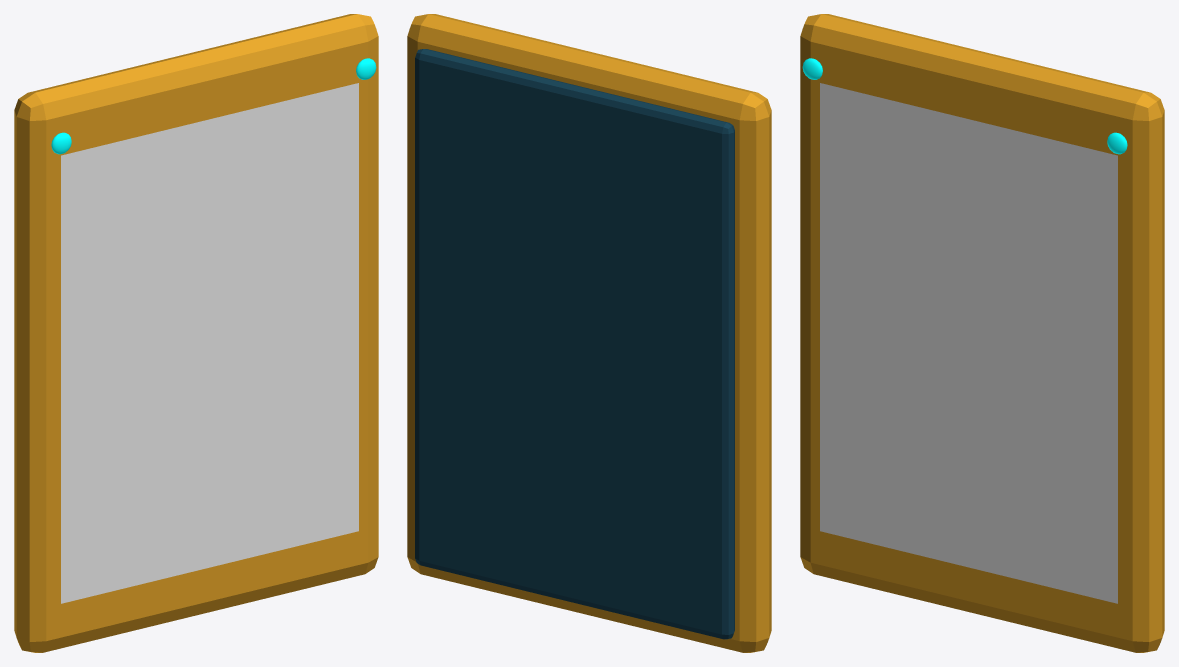
The model's file is collectible-card.glb.
The picture shows the model from 3 angles, left to right: view 1: azimuth 30°, elevation 25°; view 2: azimuth 150°, elevation 25°; view 3: azimuth 330°, elevation 25°; orthographic projection.
Parts seen in each view (by area): view 1: cardFront, collectible-card; view 2: collectible-card; view 3: cardFront, collectible-card.
Part boxes in pixels (x1,y1,x2,y2): cardFront: (61, 83, 358, 603); collectible-card: (14, 14, 378, 652); collectible-card: (407, 14, 771, 652); cardFront: (820, 83, 1117, 603); collectible-card: (800, 14, 1164, 652).
Size of the model in its own units: 0.43 by 0.64 by 0.08.
